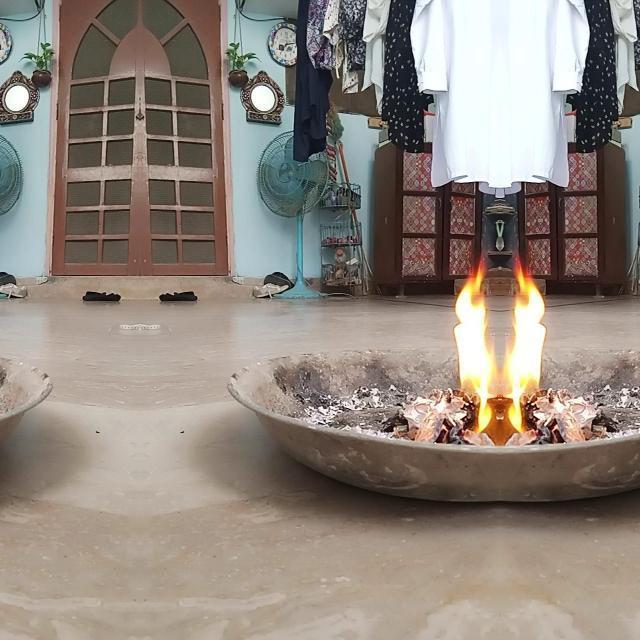smoke: (451, 255, 497, 437), (503, 255, 549, 437)
